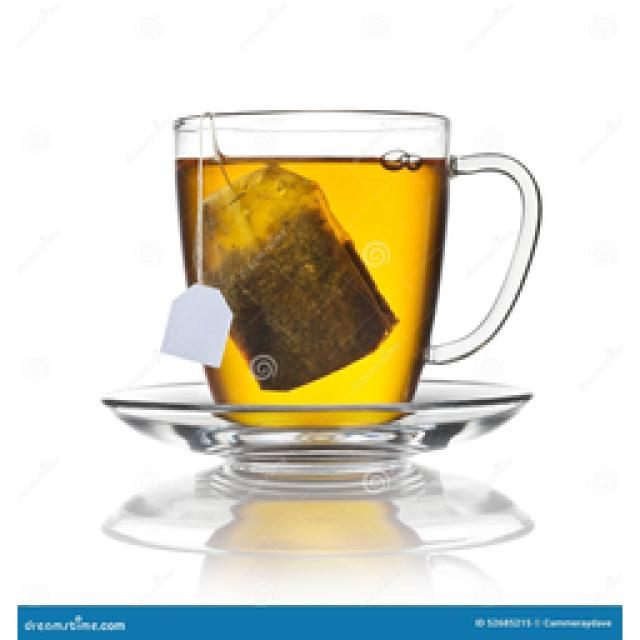tea-bags: (161, 163, 398, 391)
